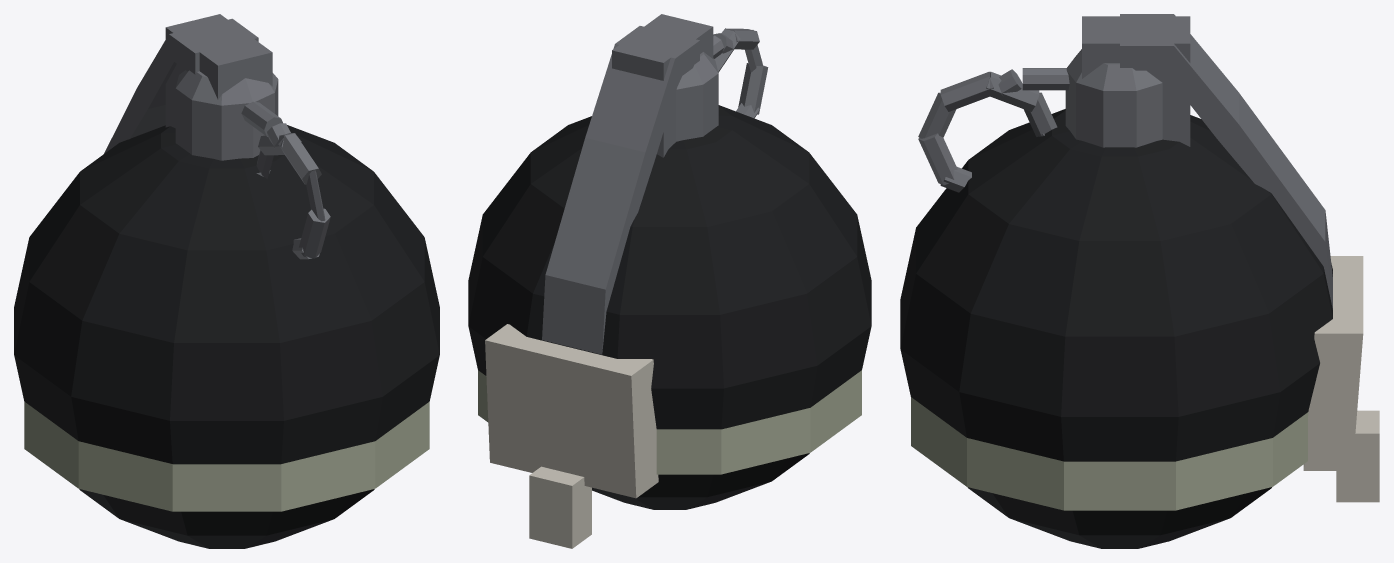
File: StickyGrenade.fbx
3 views of the same model, side by side, from view 1: azimuth 30°, elevation 25°; view 2: azimuth 150°, elevation 25°; view 3: azimuth 270°, elevation 25° (orthographic). The views are drawn at different scales.
Visible parts, largest first — view 1: Body, Band, Fuze, Spoon, Pin; view 2: Body, Backing, Spoon, Band, Fuze, Pin; view 3: Body, Band, Spoon, Backing, Fuze, Pin.
Boxes of the visible parts, x1,y1,x2,y2 form: Body: [14, 125, 439, 548]; Band: [24, 402, 429, 511]; Fuze: [165, 14, 278, 160]; Spoon: [104, 18, 258, 153]; Pin: [241, 101, 330, 259]; Body: [468, 105, 871, 509]; Backing: [485, 324, 658, 548]; Spoon: [542, 26, 699, 354]; Band: [478, 370, 861, 474]; Fuze: [612, 14, 718, 157]; Pin: [713, 28, 768, 118]; Body: [900, 109, 1332, 548]; Band: [911, 397, 1308, 510]; Spoon: [1120, 14, 1332, 309]; Backing: [1303, 256, 1379, 502]; Fuze: [1065, 16, 1190, 147]; Pin: [918, 68, 1069, 192].
Bounding box in the file's own units: 40.57 × 51 × 44.28.
